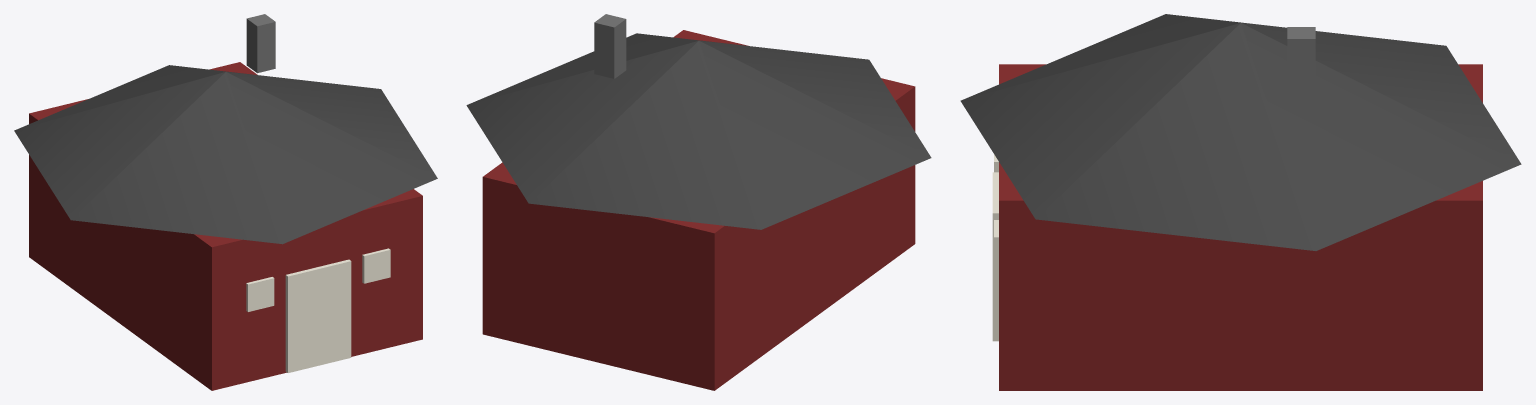
Rendered from barn_high.glb.
3 renders of one model, left to right at view 1: azimuth 30°, elevation 25°; view 2: azimuth 150°, elevation 25°; view 3: azimuth 270°, elevation 25°, orthographic. The views are drawn at different scales.
Size of the model in its own units: 13.91 by 8.95 by 13.91.
